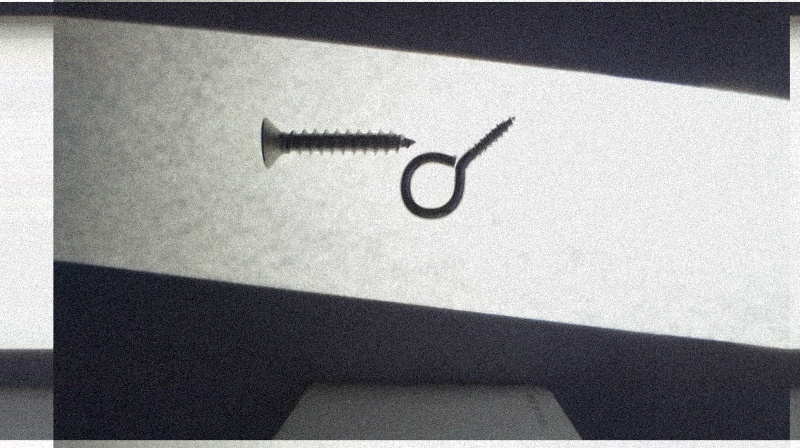O001: (399, 113, 518, 219)
S001: (258, 116, 418, 165)
